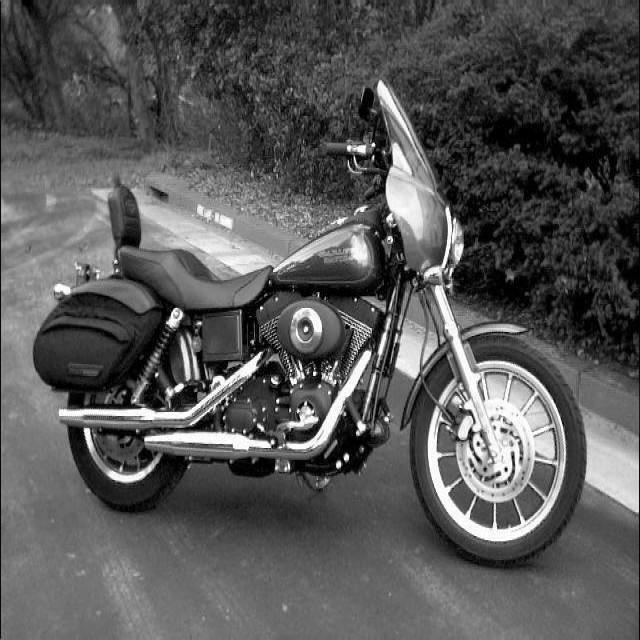Motorcycle: (34, 80, 587, 565)
